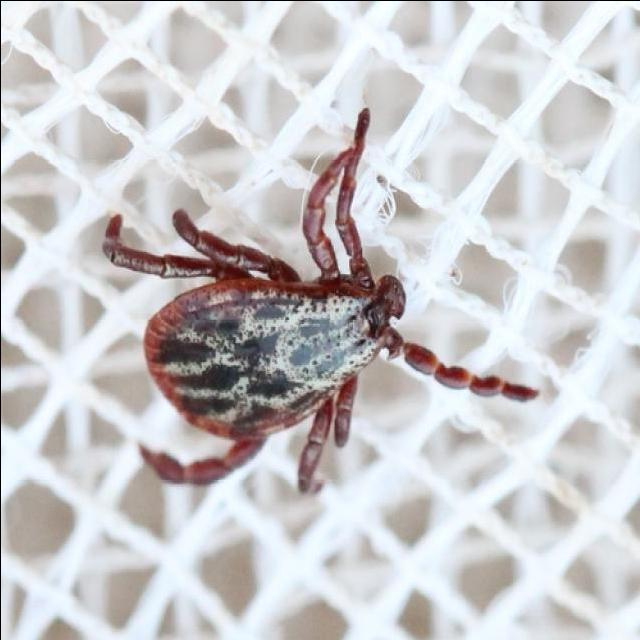Dermacentor Reticulatus-M: (100, 104, 525, 490)
